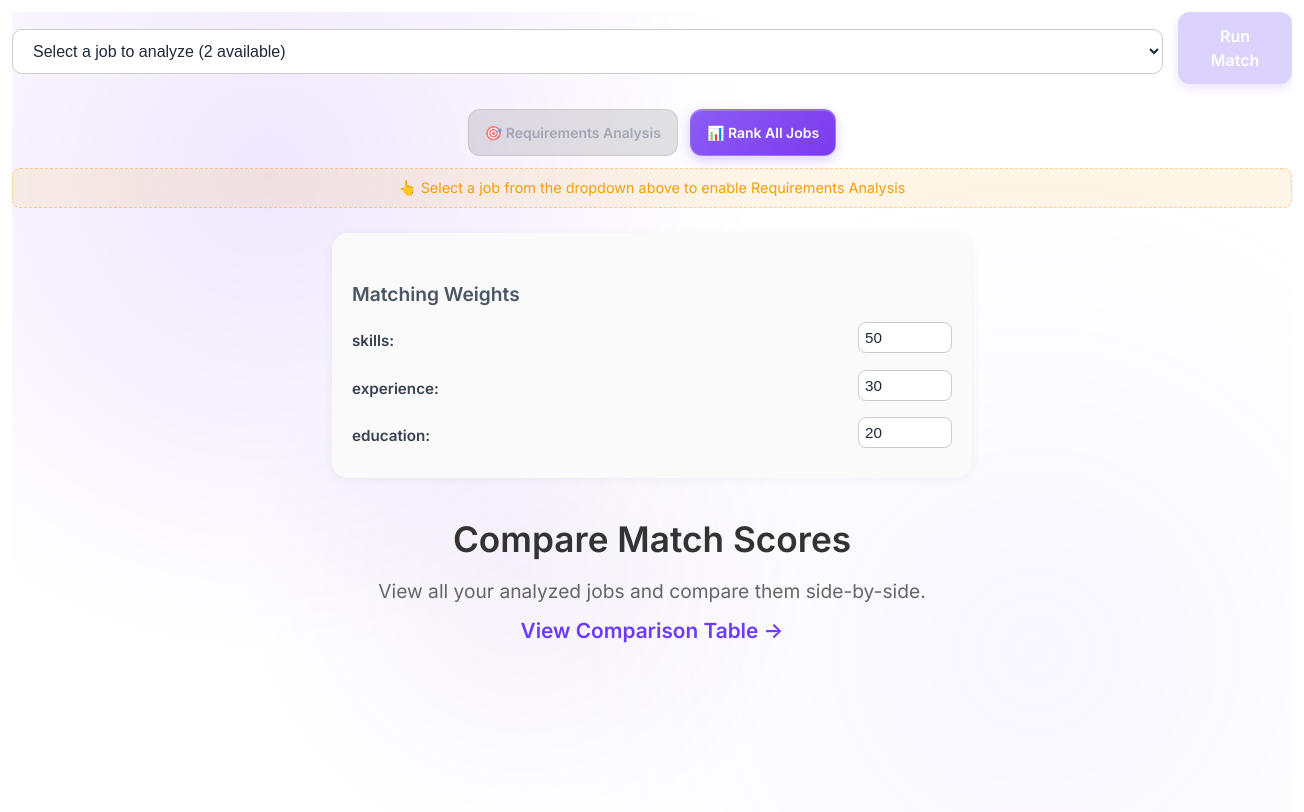
Test: MatchAnalysisTab › displays match results after analysis
Select "Software Engineer — Tech Corp" in the dropdown at x=588, y=51, box [12,29,1163,74]
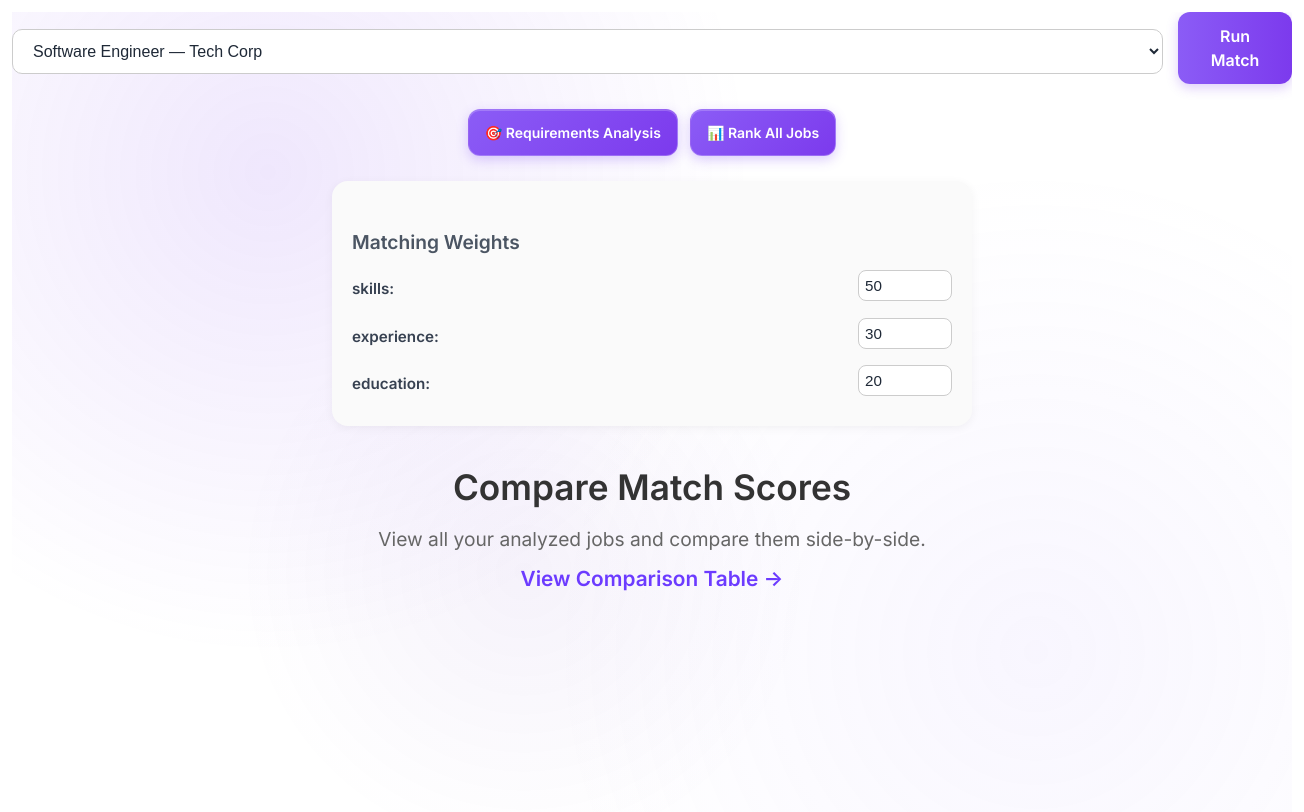
Click the button "Run Match" at x=1235, y=48, box [1178,12,1292,84]
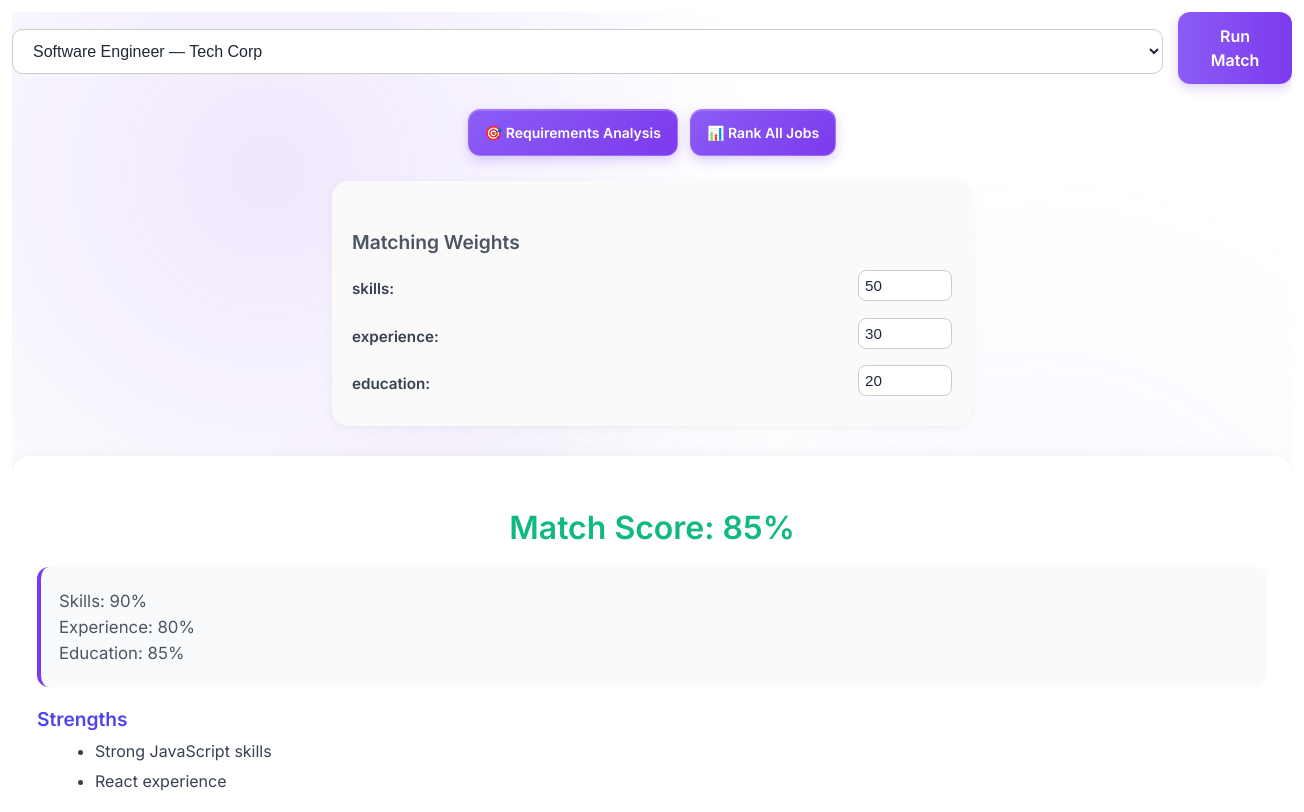
Check: the heading "Match Score: 85%" is shown, box [509,508,795,546]
